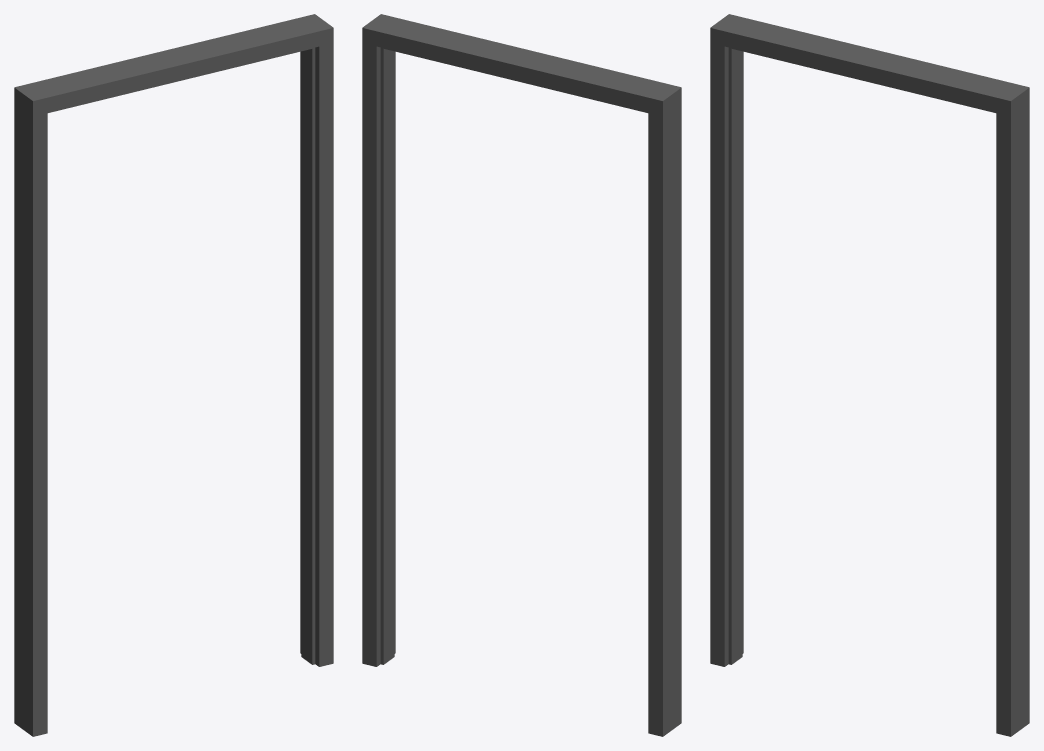
File: Doorway_5_doorway_5.obj
3 views of the same model, side by side, from view 1: azimuth 30°, elevation 25°; view 2: azimuth 150°, elevation 25°; view 3: azimuth 330°, elevation 25° (orthographic).
Bounding box in the file's own units: 1.04 × 2.1 × 0.1128.
